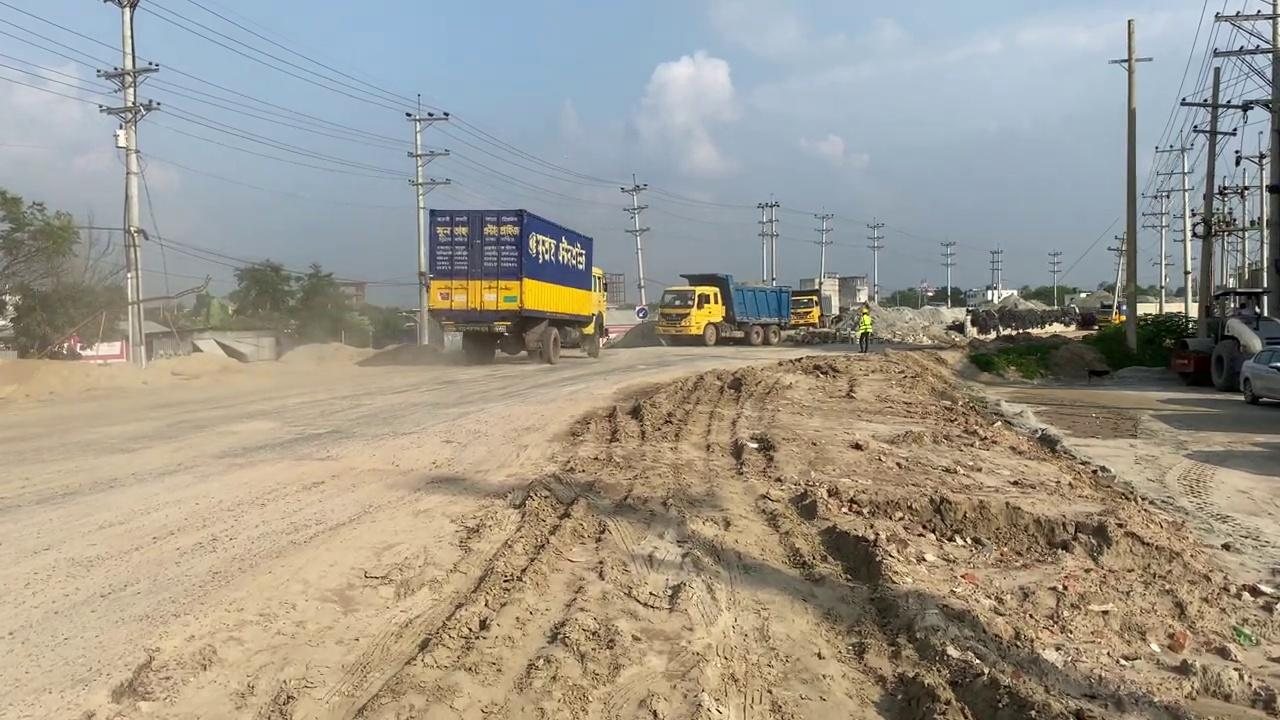Car: (1237, 345, 1279, 405)
Dog: (1085, 367, 1110, 384)
Muddy road: (505, 336, 1052, 720)
Pole: (97, 1, 159, 367), (1108, 18, 1153, 351), (118, 1, 145, 367)
Tree: (423, 206, 608, 364), (1169, 286, 1278, 391), (653, 272, 792, 346), (787, 294, 822, 330), (1095, 300, 1126, 327)
